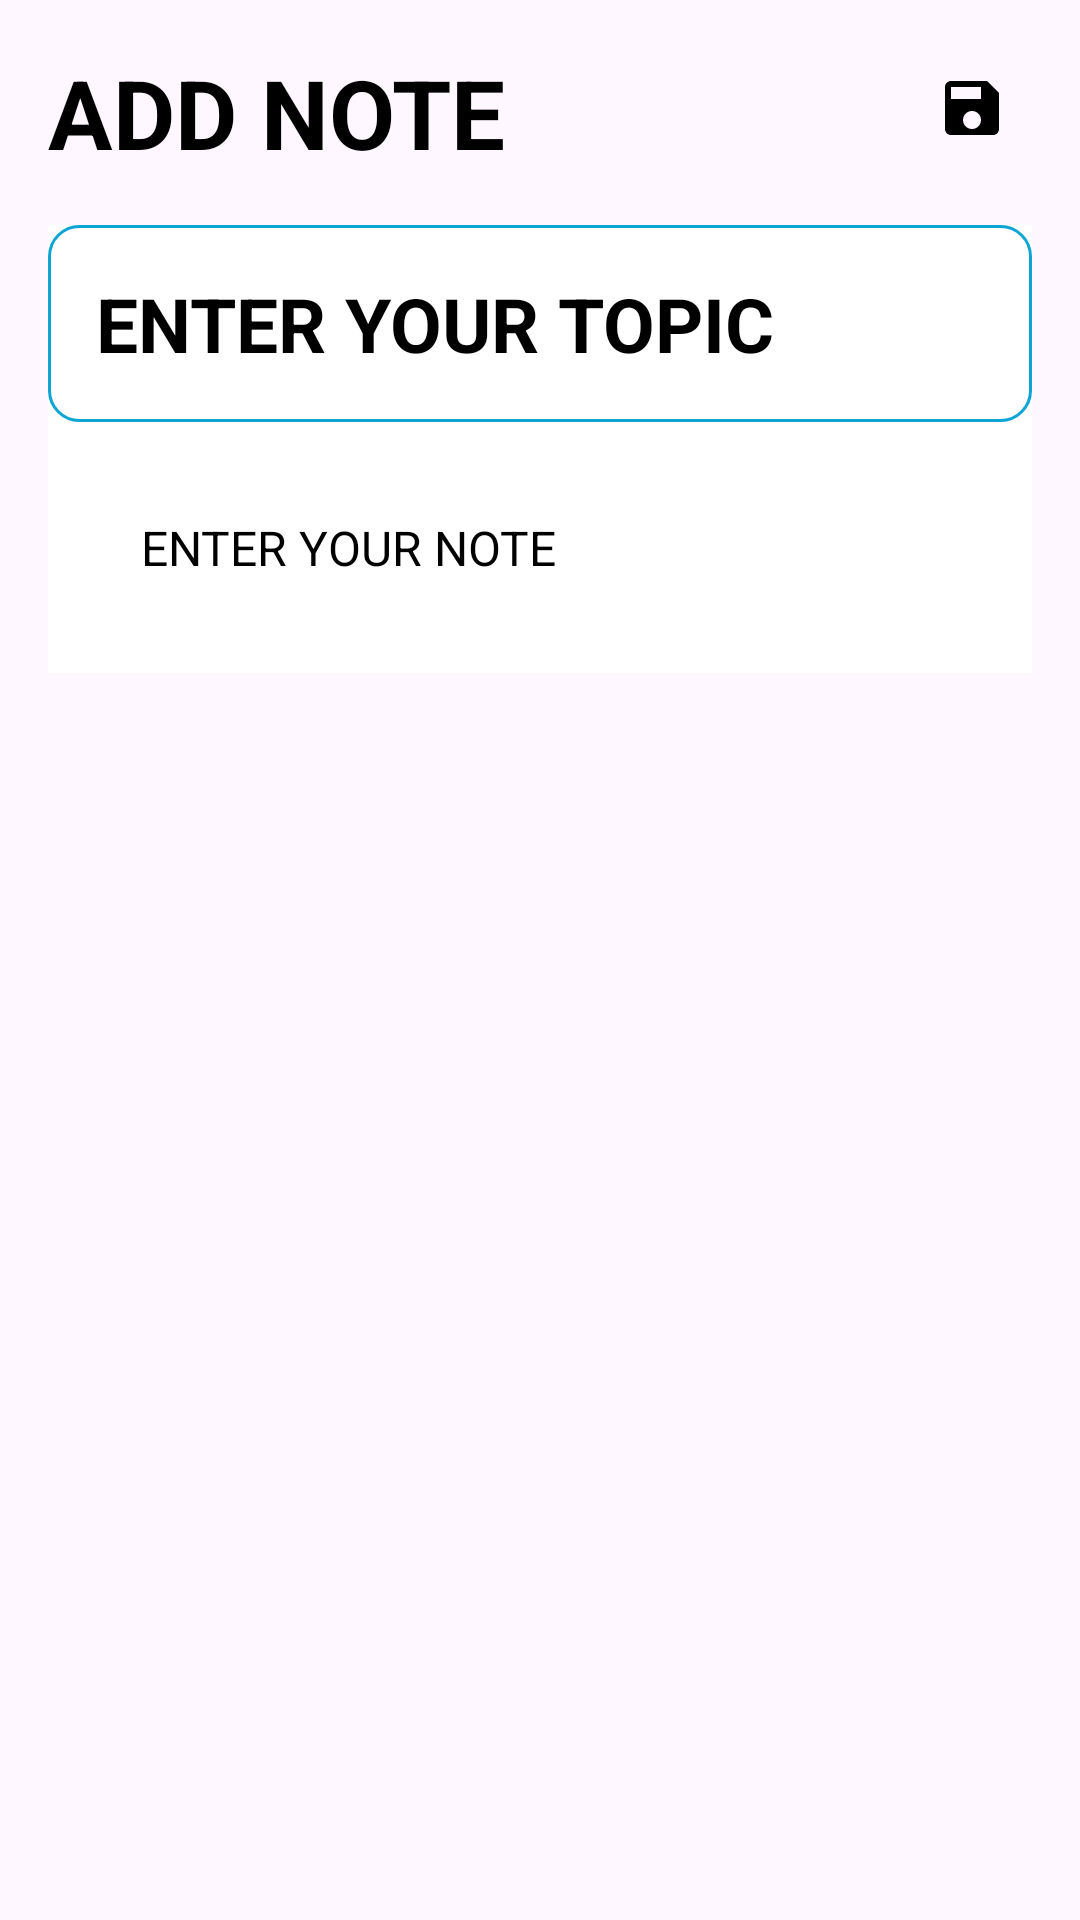

Screen size 1080 × 1920. Icon name, then its center in pixels as (x=x, y=y):
save: (x=972, y=108)
